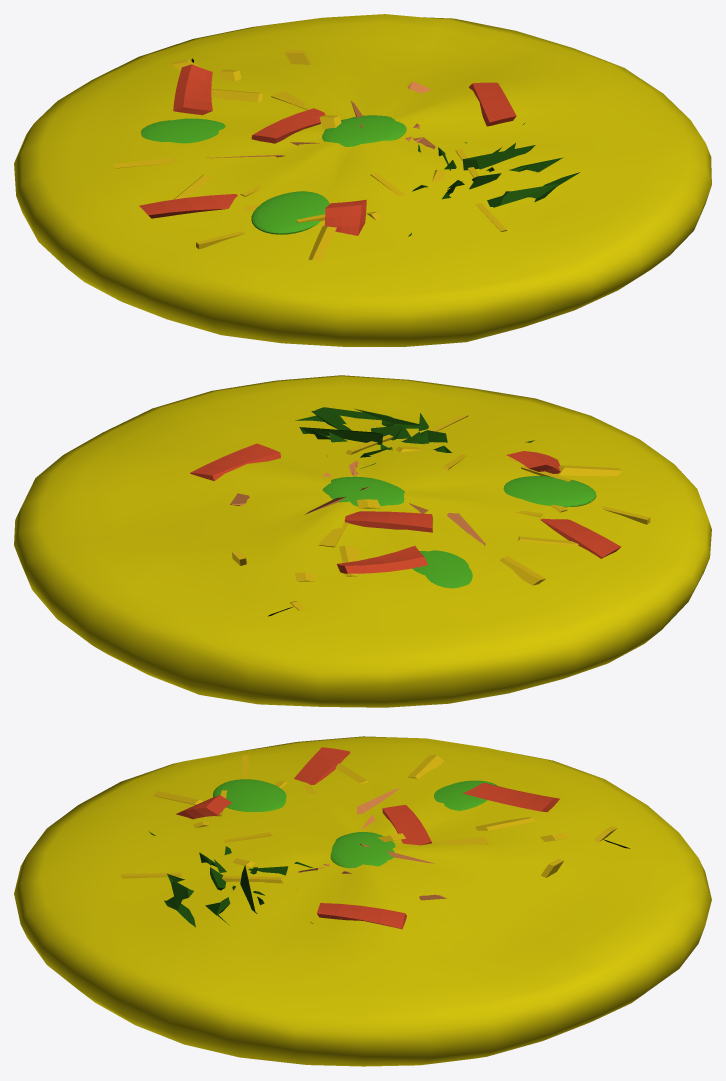
File: omletteCooking2_ingredients.fbx
3 views of the same model, one above another, from view 1: azimuth 30°, elevation 25°; view 2: azimuth 150°, elevation 25°; view 3: azimuth 270°, elevation 25° (orthographic).
Parts seen in each view (by area): view 1: eggs, spices2, spinnach.002, spinnach, baconbits.003, spinnach.001, baconbits.001, baconbits.004, baconbits.002, baconbits, spices1; view 2: eggs, spices2, spinnach.002, spinnach, spinnach.001, baconbits, baconbits.003, baconbits.004, baconbits.001, spices1, baconbits.002, cheddar.007; view 3: eggs, spices2, spinnach, spinnach.002, baconbits.004, baconbits.003, baconbits, baconbits.001, spinnach.001, spices1, baconbits.002.
Boxes of the visible parts, x1,y1,x2,y2 form: eggs: (14,14,711,346); spices2: (408,123,579,236); spinnach.002: (251,191,329,234); spinnach: (322,115,406,146); baconbits.003: (173,64,212,115); spinnach.001: (141,118,225,143); baconbits.001: (139,194,237,218); baconbits.004: (469,82,516,126); baconbits.002: (324,199,366,235); baconbits: (251,108,325,143); spices1: (206,81,435,158); eggs: (14,375,711,707); spices2: (295,407,534,468); spinnach.002: (503,476,596,507); spinnach: (323,476,404,508); spinnach.001: (412,550,472,588); baconbits: (344,511,432,532); baconbits.003: (337,546,427,573); baconbits.004: (190,443,280,480); baconbits.001: (540,518,621,558); spices1: (230,460,485,545); baconbits.002: (506,451,560,473); cheddar.007: (557,465,622,476); eggs: (14,736,711,1066); spices2: (149,831,312,927); spinnach: (330,832,395,868); spinnach.002: (213,779,286,811); baconbits.004: (317,903,406,929); baconbits.003: (463,783,559,812); baconbits: (382,805,431,845); baconbits.001: (294,747,350,784); spinnach.001: (434,780,497,810); spices1: (298,788,446,900); baconbits.002: (176,795,231,819).
Size of the model in its own units: 386 by 78.75 by 385.
